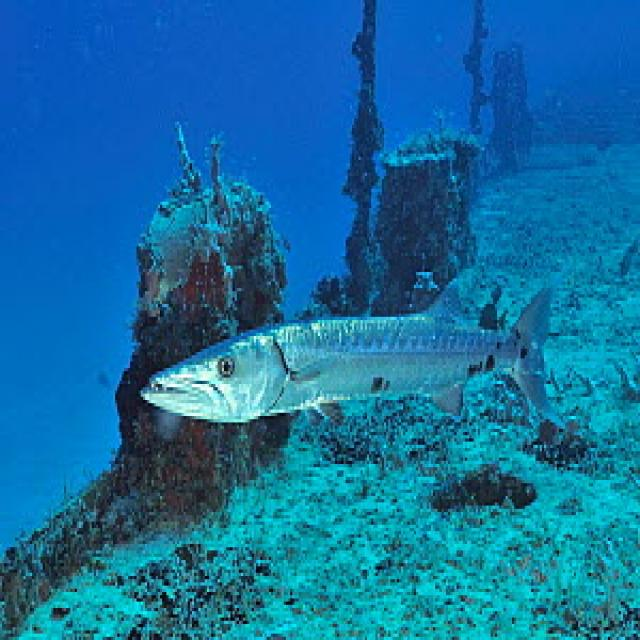Barracuda: (134, 256, 574, 432)
